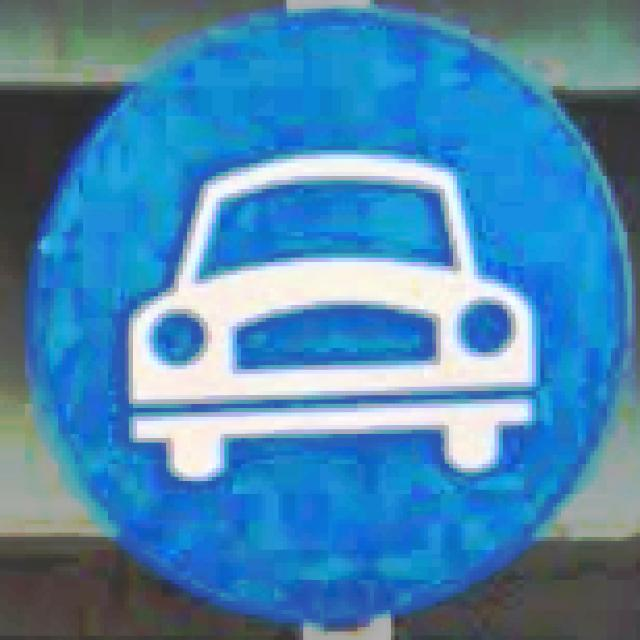car: (25, 0, 632, 623)
